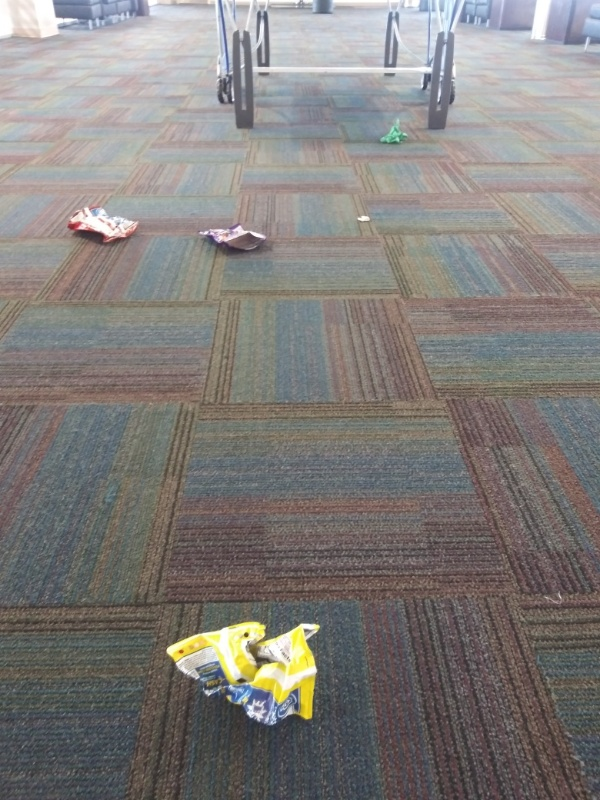bag: (158, 615, 326, 731), (60, 201, 148, 244), (193, 221, 272, 256)
